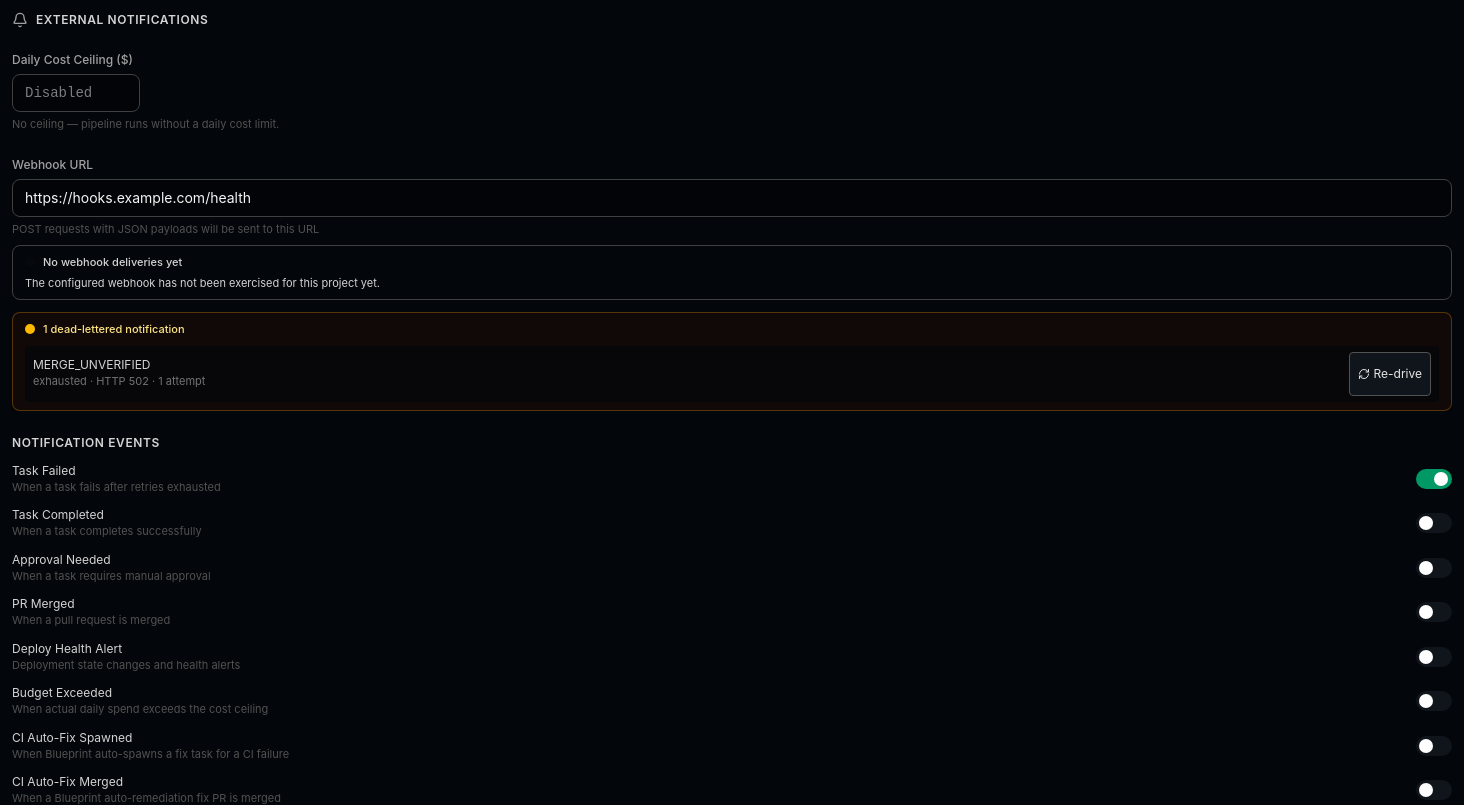
SettingsNotificationsSection › shows redrive error when redrive API fails
The width and height of the screenshot is (1464, 805).
Click the button "Re-drive" at (1390, 374), box [1348,352,1431,396]
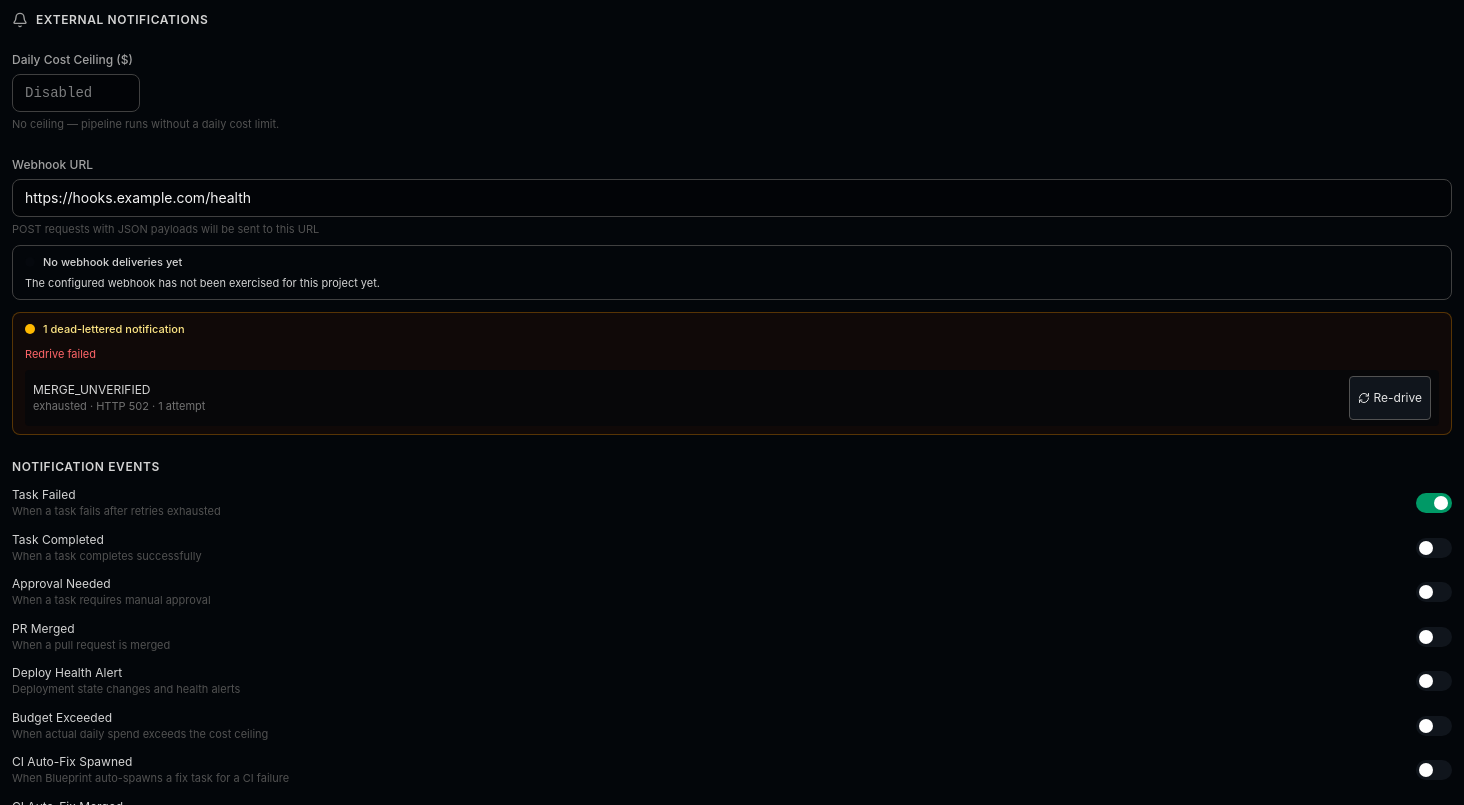
Result: the text "Redrive failed" is shown at [25,346,96,360]
